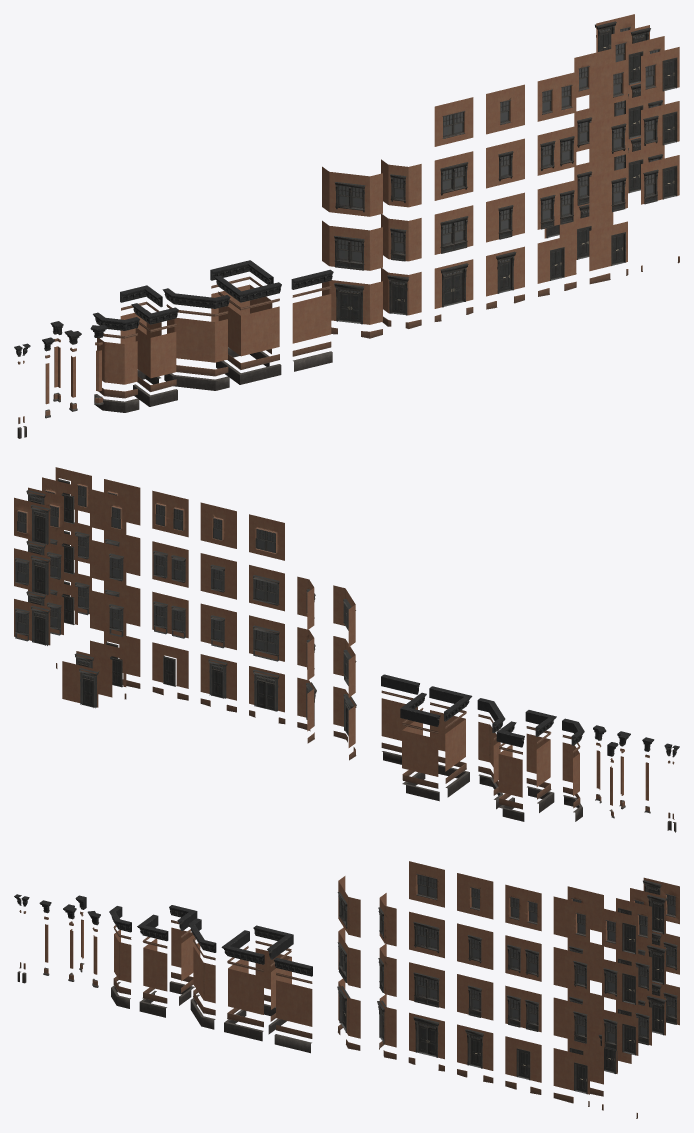
File: apartment-near.glb
3 views of the same model, one above another, from view 1: azimuth 30°, elevation 25°; view 2: azimuth 150°, elevation 25°; view 3: azimuth 330°, elevation 25° (orthographic). The views are drawn at different scales.
Visible parts, largest first — view 1: wall_door_centered_large_01, door_angled_small_01, door_window_small_09, crown_standard_angled_large_01; view 2: wall_door_centered_large_01, door_angled_small_01, door_window_small_09, crown_standard_angled_large_01; view 3: wall_door_centered_large_01, door_angled_small_01, door_window_small_09, crown_standard_angled_large_01.
Boxes of the visible parts, x1,y1,x2,y2 form: wall_door_centered_large_01: (45, 14, 679, 404); door_angled_small_01: (334, 21, 677, 324); door_window_small_09: (17, 26, 679, 438); crown_standard_angled_large_01: (14, 260, 333, 356); wall_door_centered_large_01: (14, 467, 648, 805); door_angled_small_01: (15, 478, 356, 735); door_window_small_09: (17, 484, 676, 832); crown_standard_angled_large_01: (381, 674, 679, 757); wall_door_centered_large_01: (45, 861, 679, 1094); door_angled_small_01: (337, 875, 677, 1094); door_window_small_09: (17, 874, 675, 1118); crown_standard_angled_large_01: (14, 894, 312, 976).
Bounding box in the file's own units: 51.53 × 17 × 6.66.
Materials: 5 (5 with a texture image).
